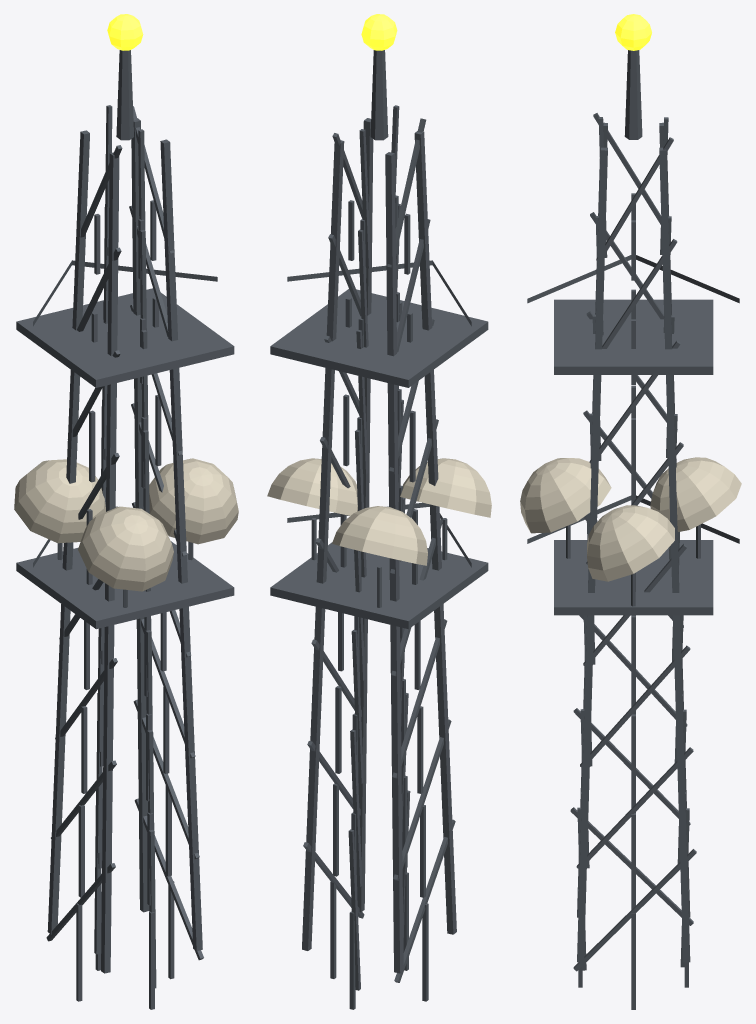
Rendered from mast-summit.glb.
3 renders of one model, left to right at view 1: azimuth 30°, elevation 25°; view 2: azimuth 150°, elevation 25°; view 3: azimuth 270°, elevation 25°, orthographic.
Visible parts, largest first — view 1: mast-summit; view 2: mast-summit; view 3: mast-summit.
Part boxes in pixels (bbox=[...]): mast-summit: bbox=[14, 14, 238, 1009]; mast-summit: bbox=[267, 14, 491, 1009]; mast-summit: bbox=[520, 14, 741, 1009].
Size of the model in its own units: 5.2 by 24.22 by 5.01.
